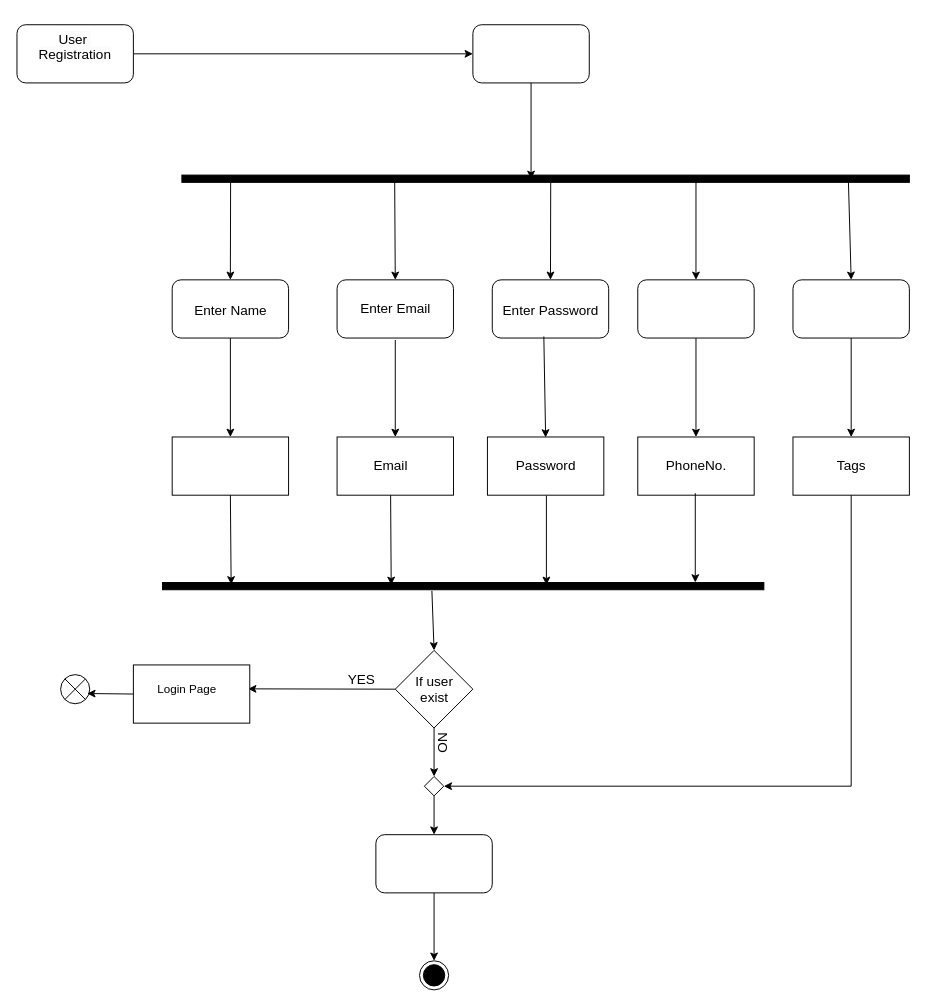
Image size: 931x1007. Some labels were removed from this diagram. Each missing label, with the box of its shape:
Enter Details: (472, 24, 589, 83)
Enter PhoneNo.: (637, 279, 754, 338)
Enter Preference: (792, 279, 909, 338)
Name: (171, 436, 289, 495)
User Created: (375, 834, 492, 893)
